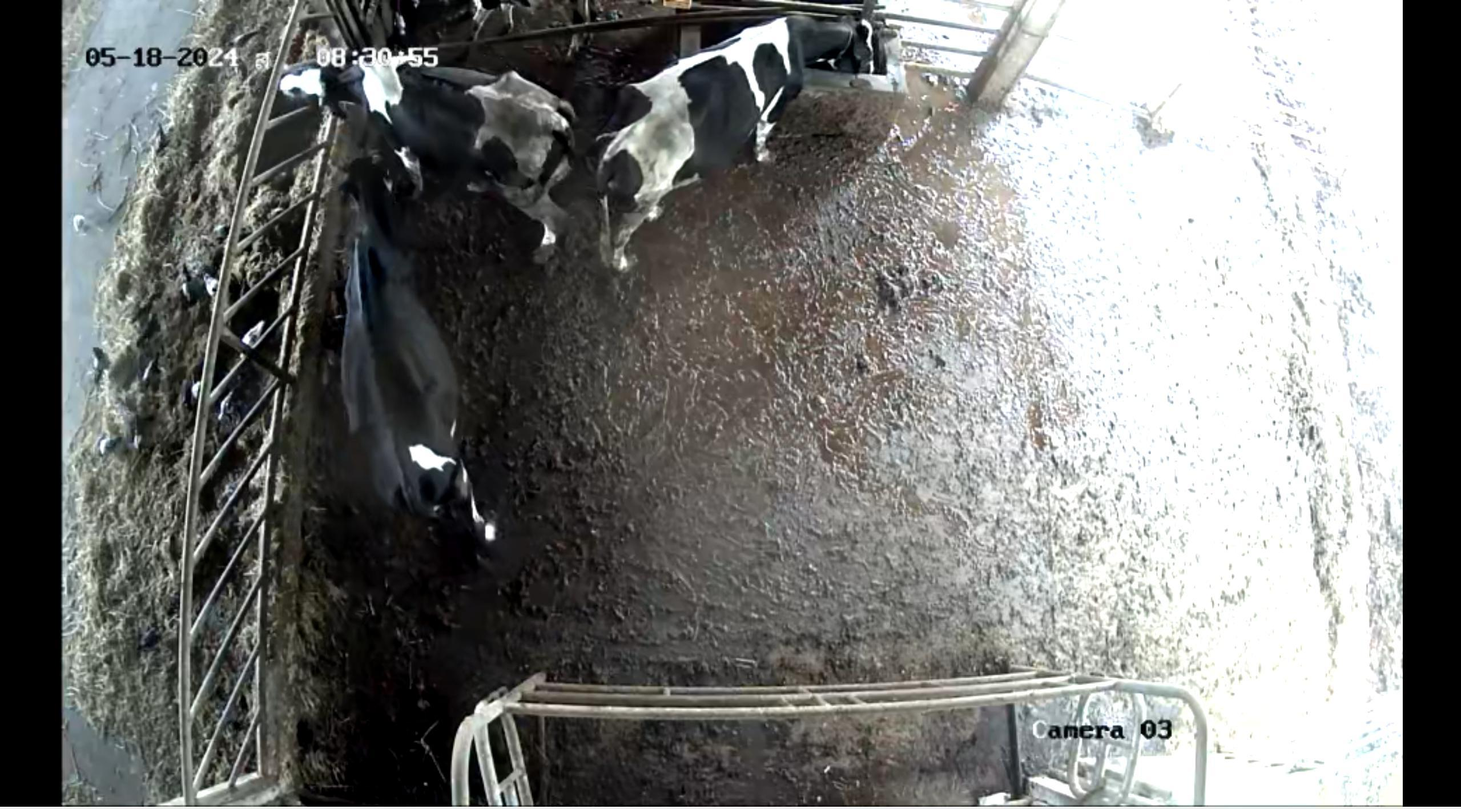drink: (763, 0, 888, 137)
stand: (308, 145, 515, 565), (281, 46, 580, 271)
